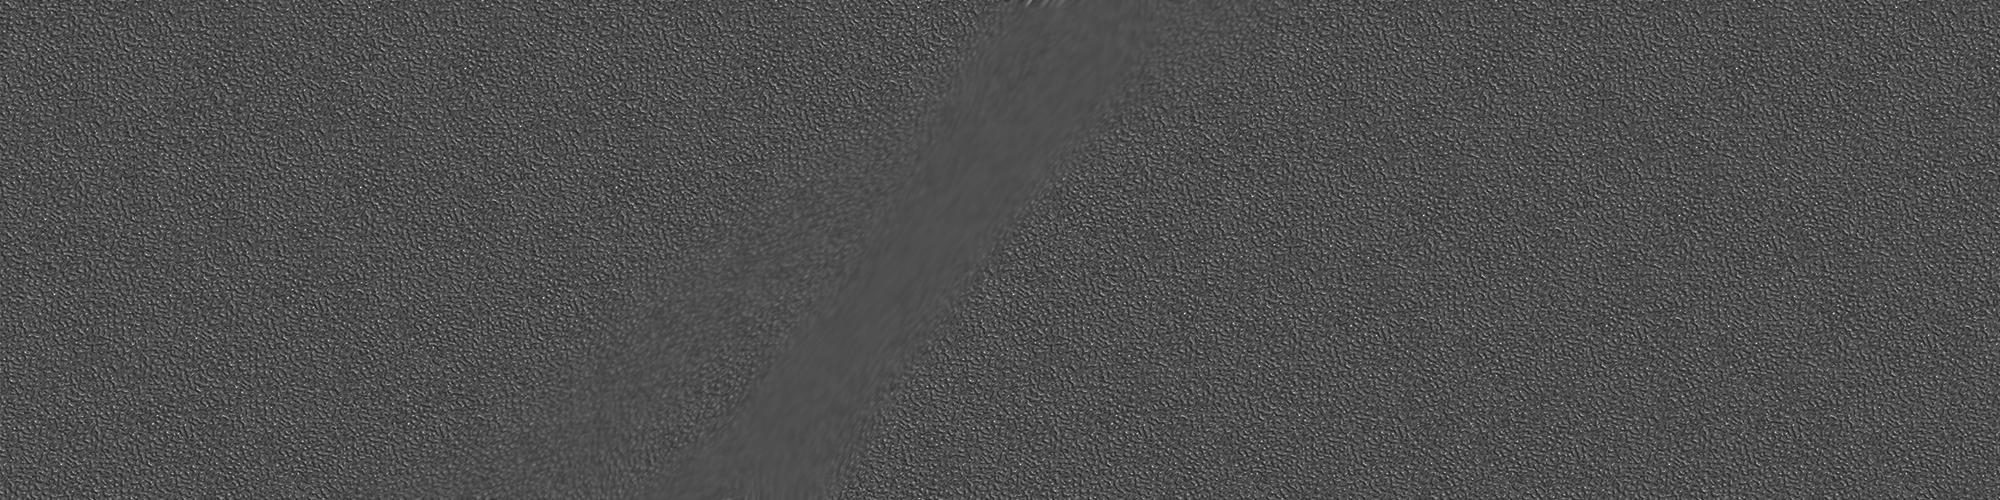Flow_Lines: (542, 23, 1217, 482)
